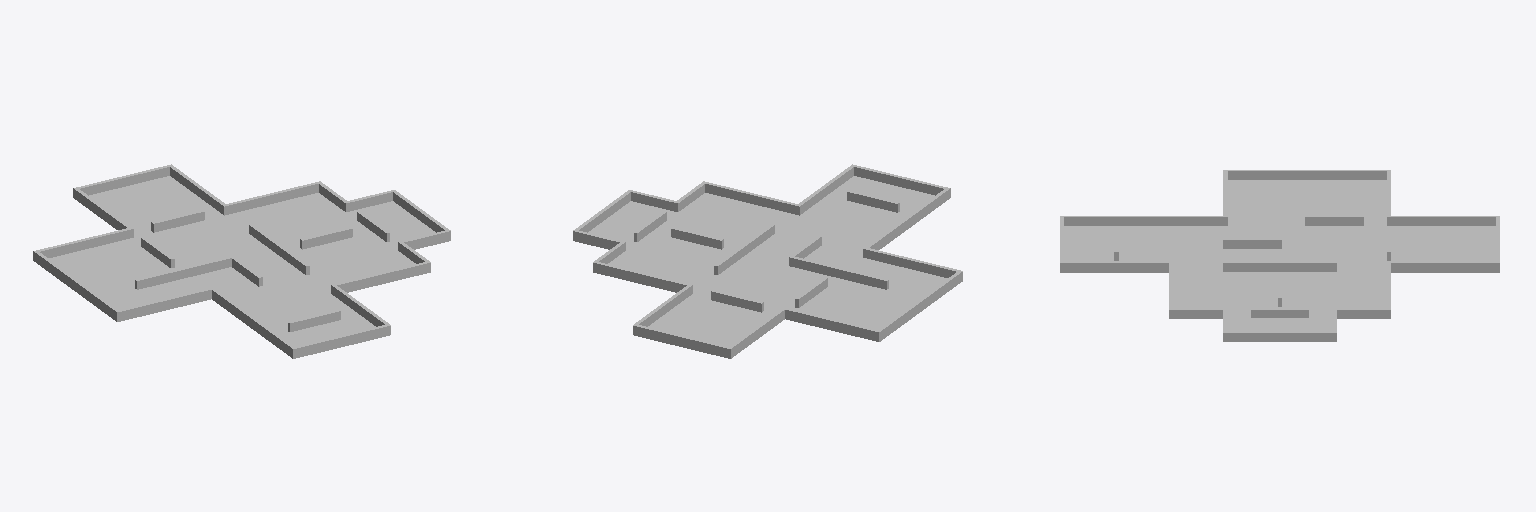
Rendered from StageWall.obj.
The picture shows the model from 3 angles: view 1: azimuth 30°, elevation 25°; view 2: azimuth 150°, elevation 25°; view 3: azimuth 270°, elevation 25°; orthographic projection.
Parts seen in each view (by area): view 1: Stage; view 2: Stage; view 3: Stage.
Boxes of the visible parts, <box> form: Stage: <box>33,164,450,358</box>; Stage: <box>573,164,962,358</box>; Stage: <box>1060,170,1499,341</box>.
Size of the model in its own units: 305 by 8.61 by 348.